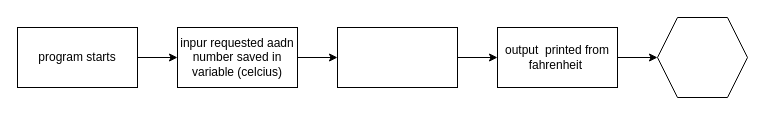
The diagram is 765 pixels wide and 115 high, and some of its shapes have lost their labels. Here are the shapes that lost their labels. From the top down, the centre of each, then its label:
the point at 397,57: input used to calculated fahrenheit and saved in vairable (fahrenheit)
the point at 702,57: program ends
